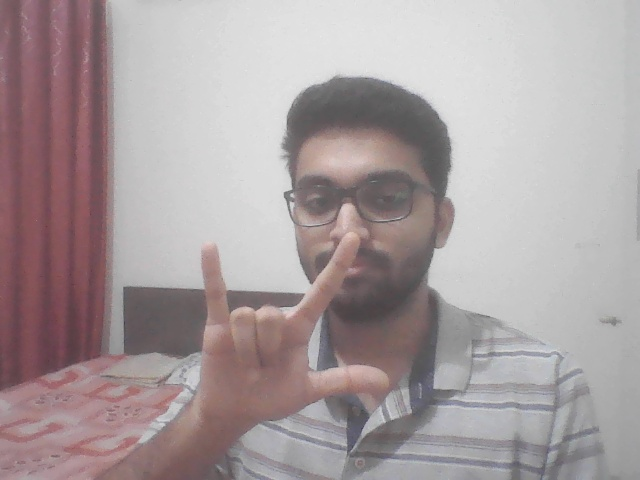iloveyou: (184, 217, 395, 437)
